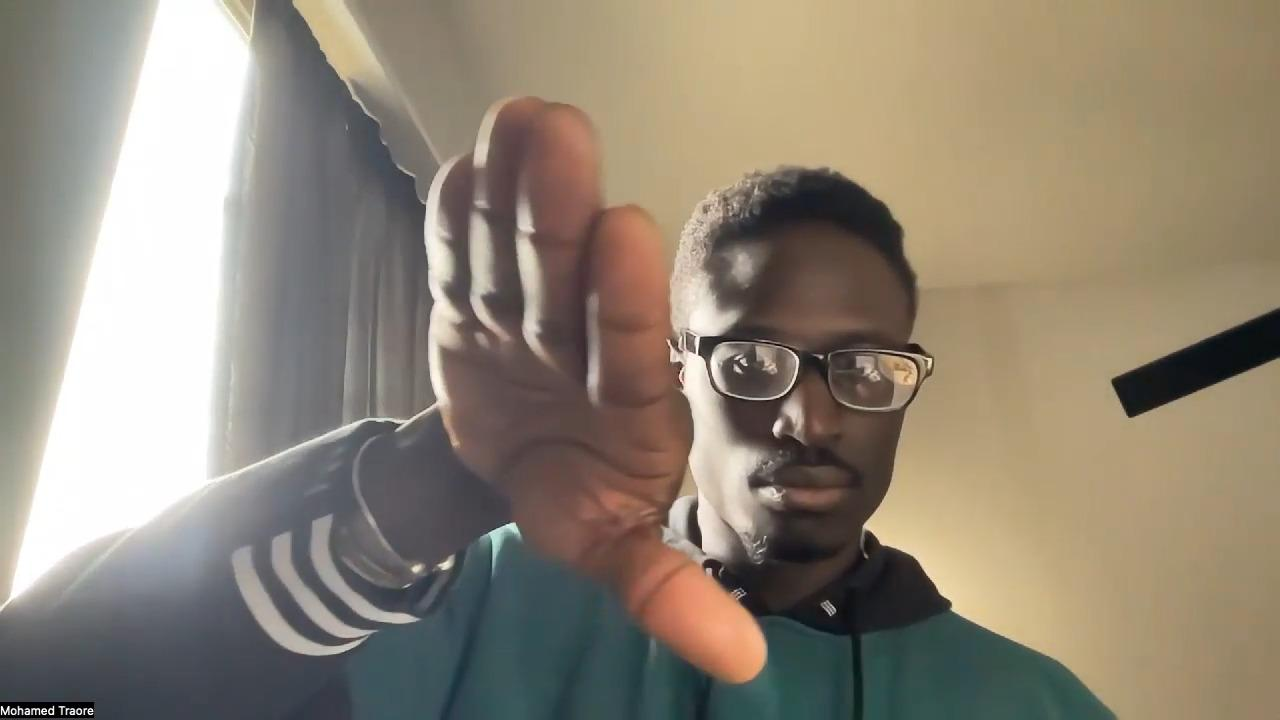Paper: (422, 95, 769, 684)
